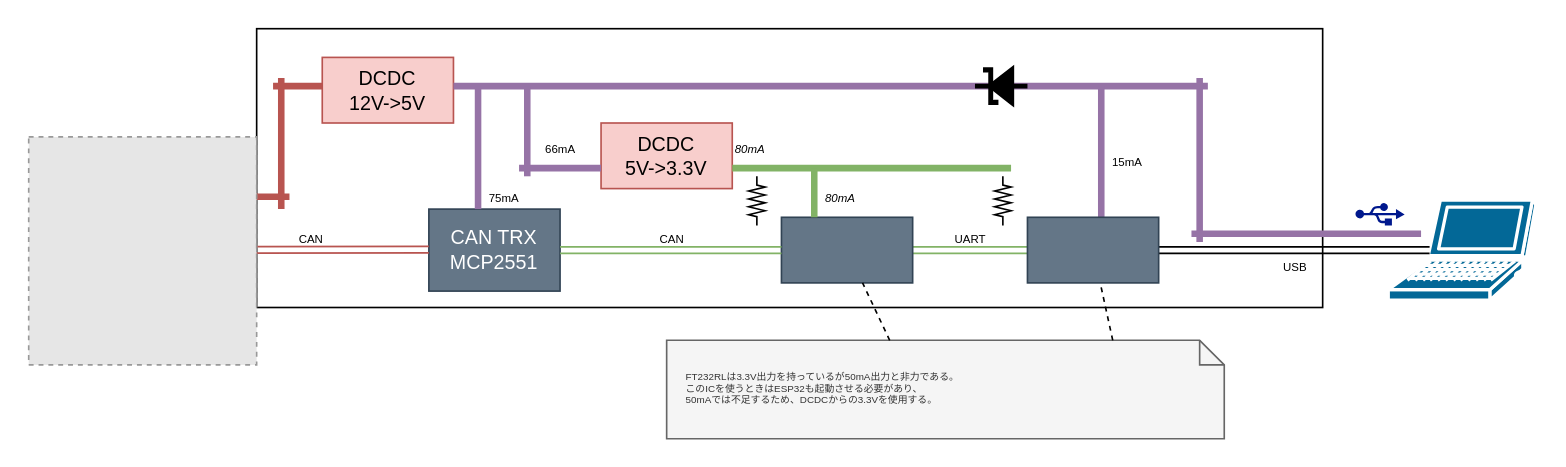
Some shapes in this 1566 by 467 pixel diagram are drawn without their labels. Grey dashed boxes stand in for pictures. Each missing label, with the box of its shape:
ESP32: (780, 216, 913, 283)
FT232RL: (1026, 216, 1159, 283)
